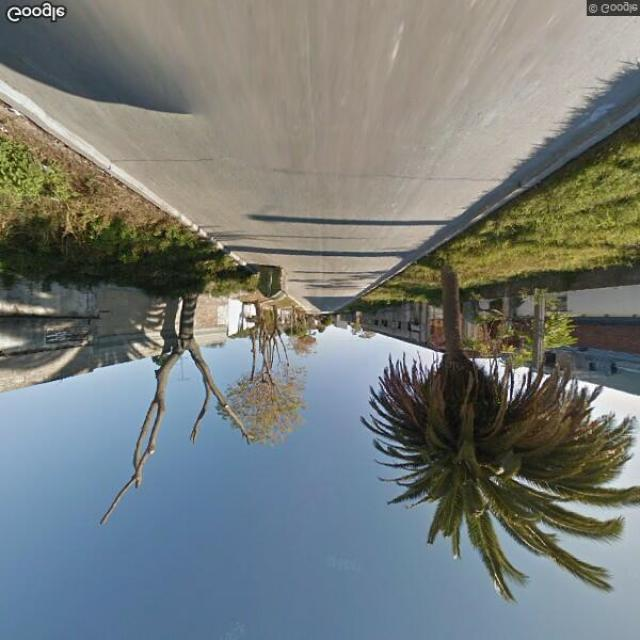garbage container: (254, 263, 297, 310)
